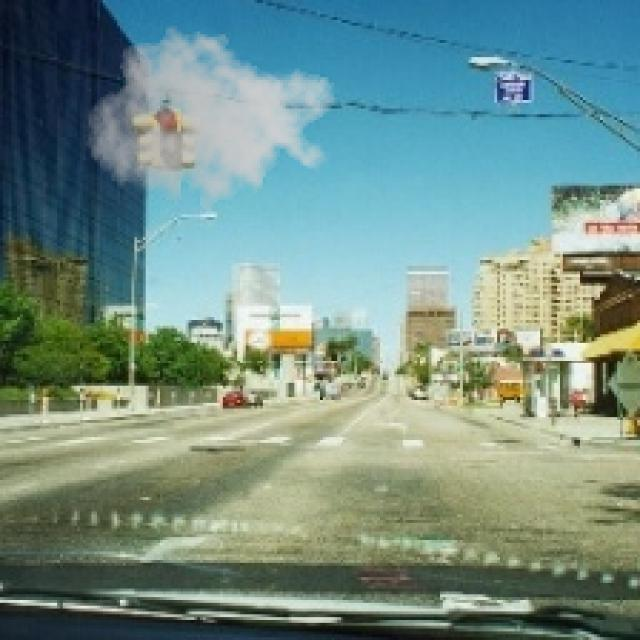smoke: (86, 20, 337, 223)
